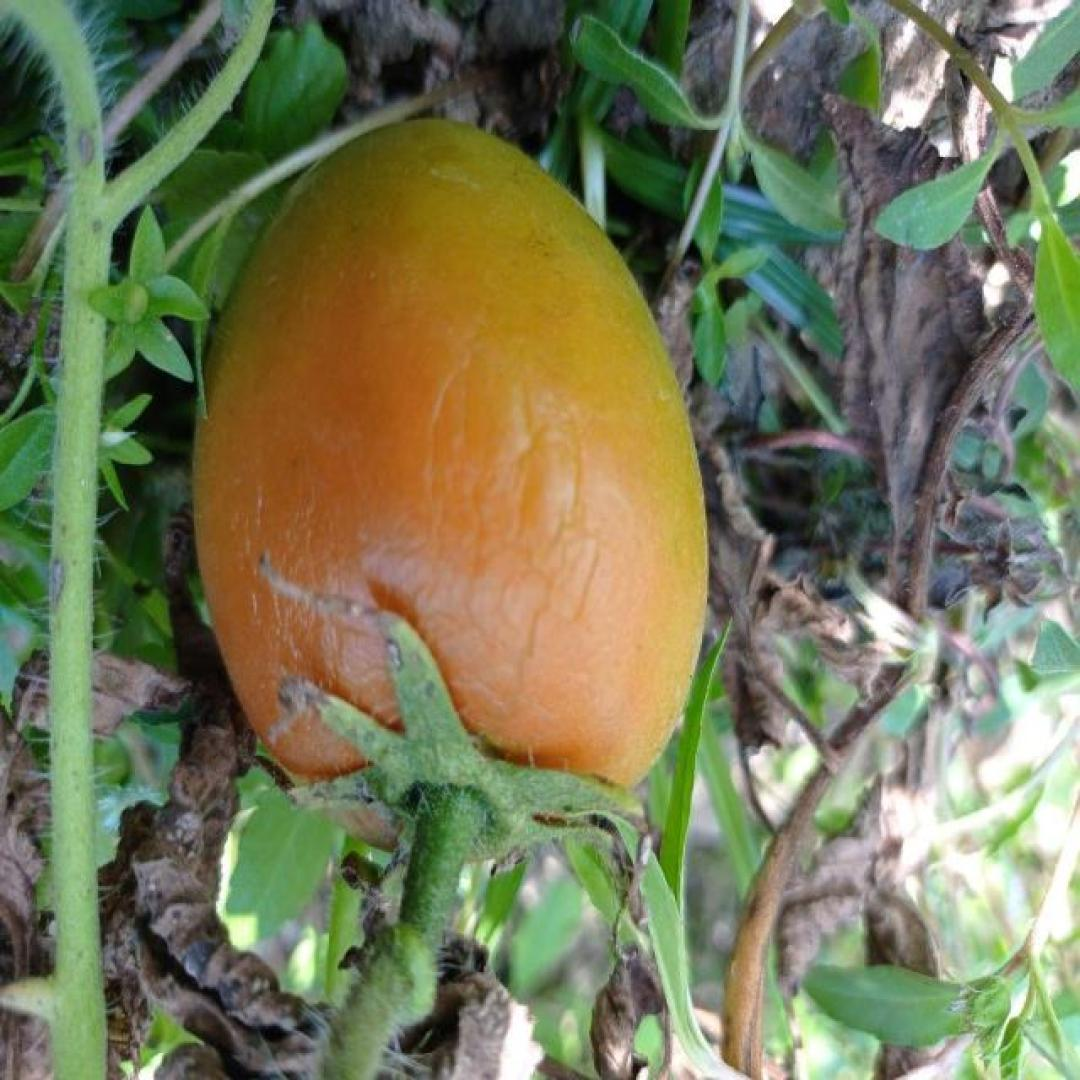setengah_matang: (184, 111, 714, 871)
